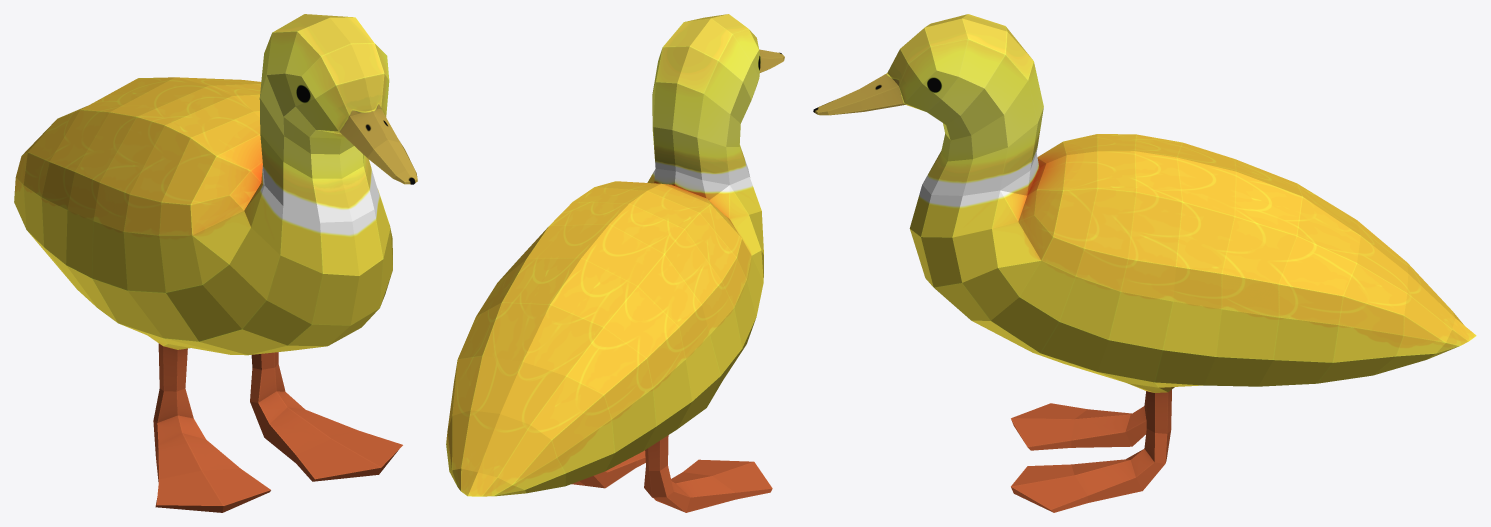
Rendered from YellowDuck.glb.
3 views of the same model, side by side, from view 1: azimuth 30°, elevation 25°; view 2: azimuth 150°, elevation 25°; view 3: azimuth 270°, elevation 25° (orthographic). The views are drawn at different scales.
Parts seen in each view (by area): view 1: MallardDuck; view 2: MallardDuck; view 3: MallardDuck.
Part boxes in pixels (x1=…): MallardDuck: x1=14, y1=14, x2=417, y2=512; MallardDuck: x1=446, y1=14, x2=784, y2=512; MallardDuck: x1=813, y1=14, x2=1476, y2=512.
Bounding box in the file's own units: 0.9816 × 1.87 × 2.55.
Materials: 1 (1 with a texture image).
